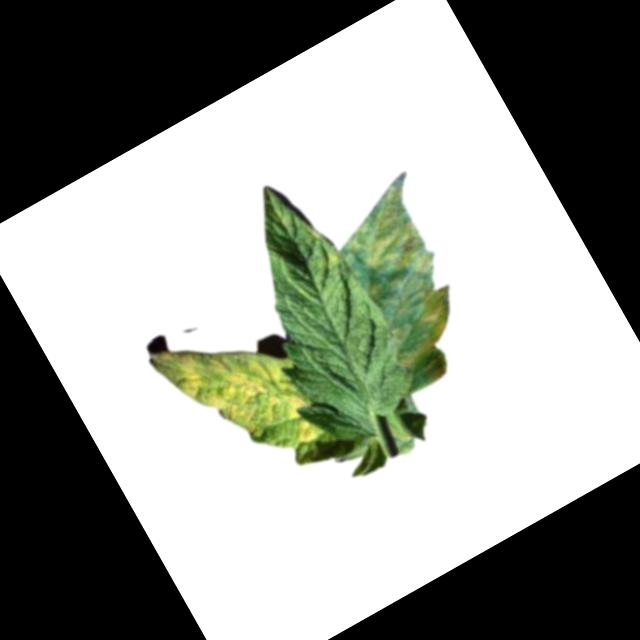Leaf_Mold: (320, 170, 501, 391), (144, 292, 331, 492), (302, 222, 342, 269)
